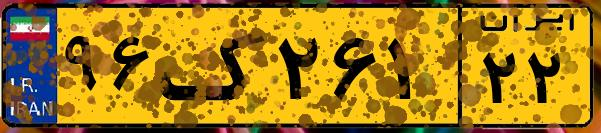1: (385, 28, 445, 110)
2: (270, 28, 330, 110), (475, 38, 525, 113), (525, 38, 570, 115)
6: (330, 28, 385, 110), (110, 28, 158, 98)
9: (57, 26, 110, 100)
ک: (158, 12, 270, 120)
